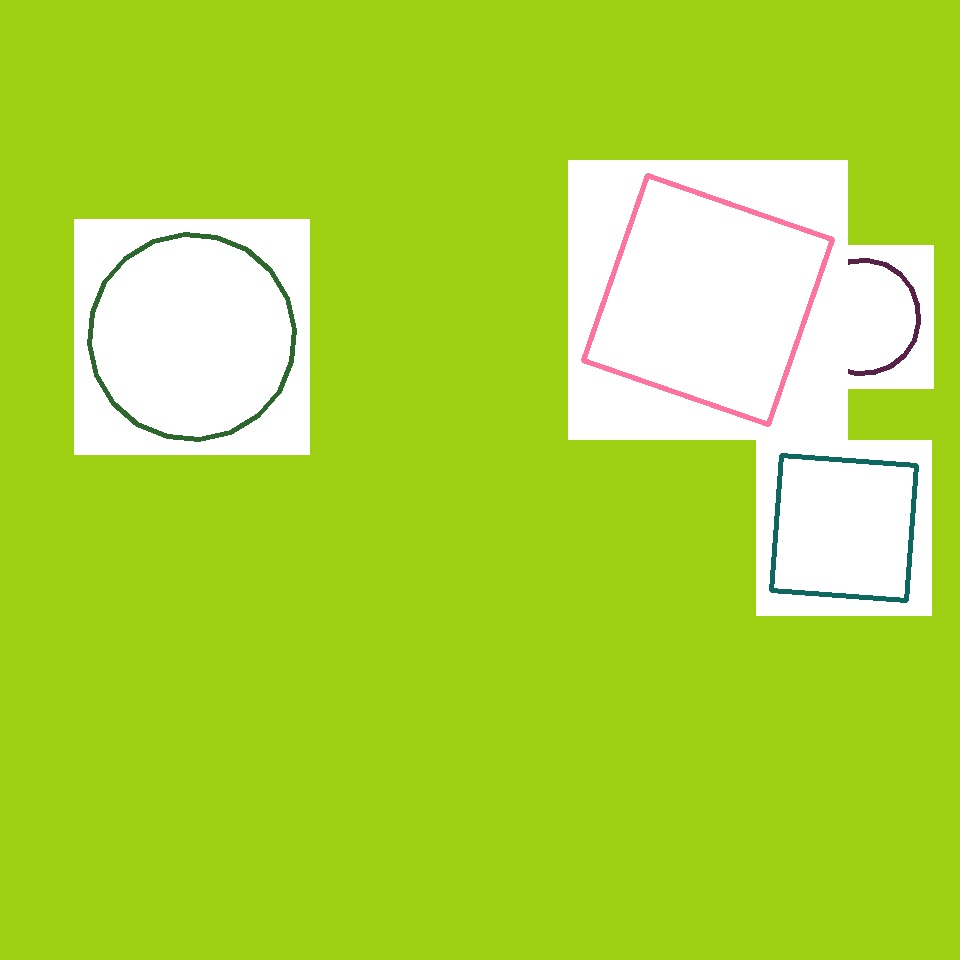circle: (698, 34, 856, 202)
square: (377, 79, 650, 352), (584, 176, 832, 424), (674, 15, 874, 214), (772, 456, 916, 601)
triangle: (90, 234, 294, 439), (806, 260, 918, 374)
